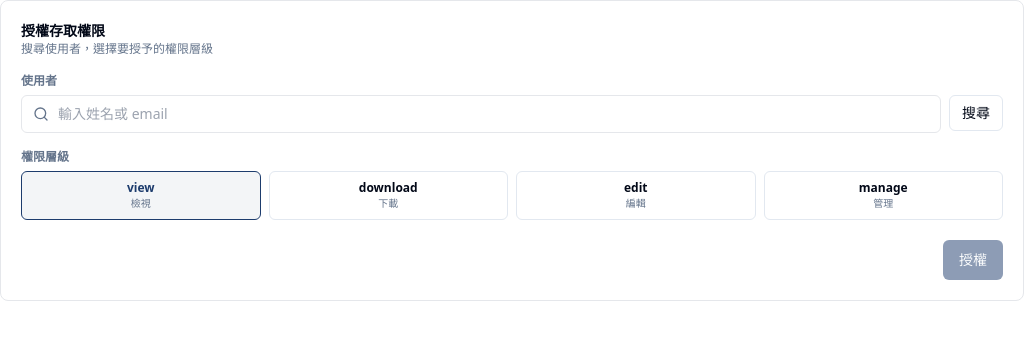
GrantPermissionForm › shows a message when the search returns no results
Type "nobody" into the field with test id "user-search-input" at x=481, y=114, box [21, 95, 941, 133]
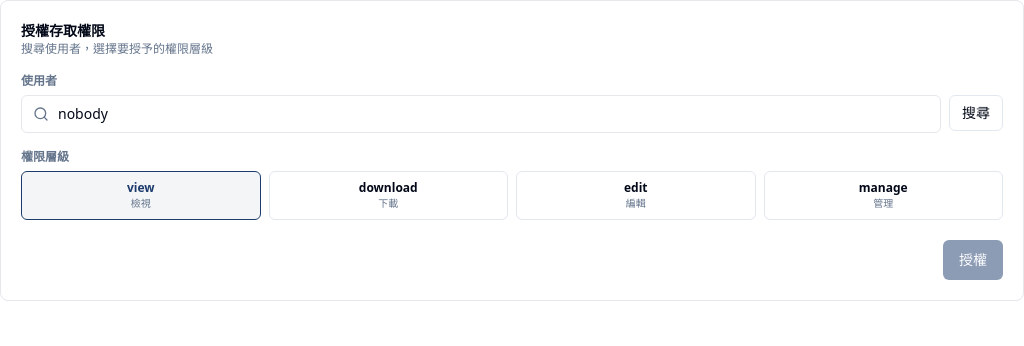
Click the button with test id "user-search-submit" at x=976, y=113, box [949, 95, 1003, 131]
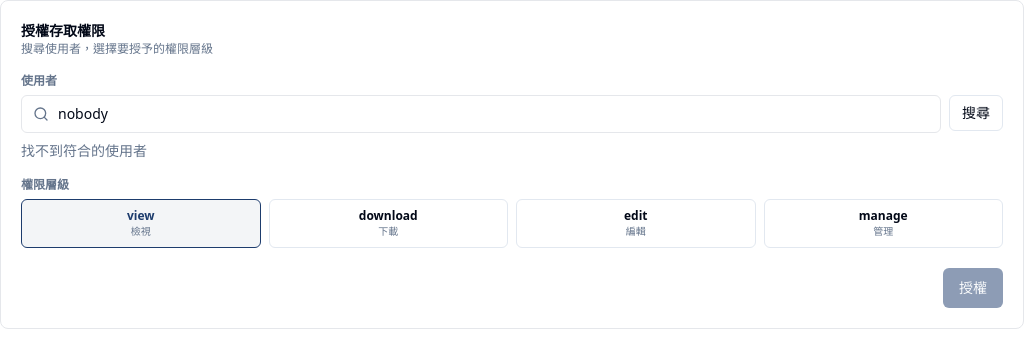
Result: the text "找不到符合的使用者" is shown at [21, 141, 147, 160]
